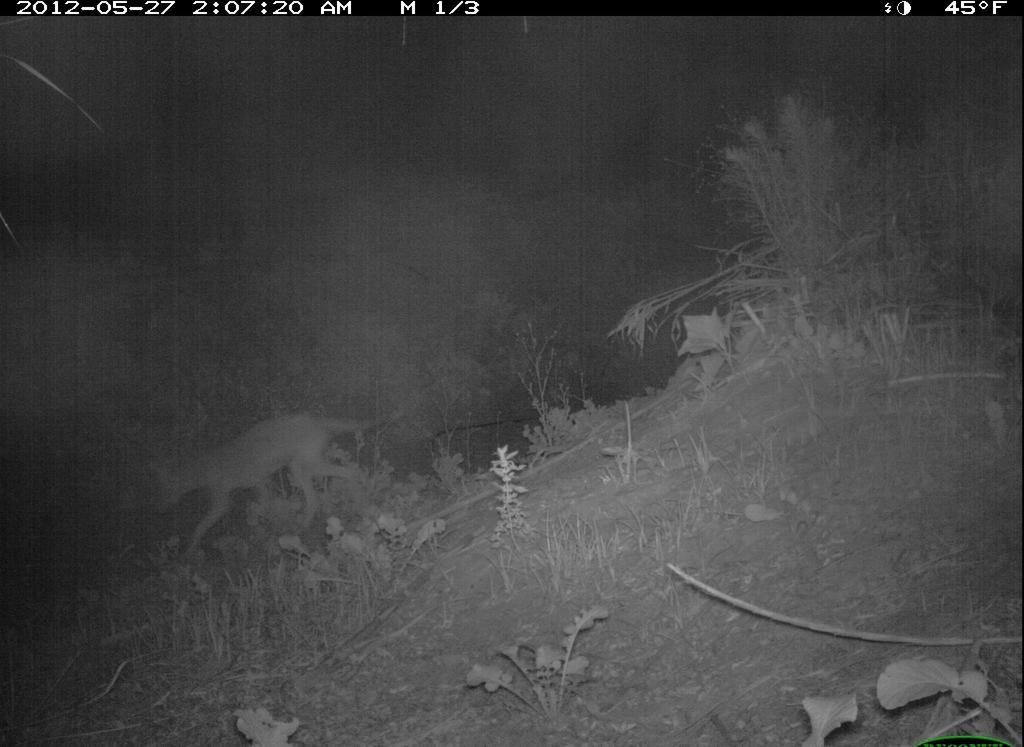coyote: (146, 405, 383, 552)
